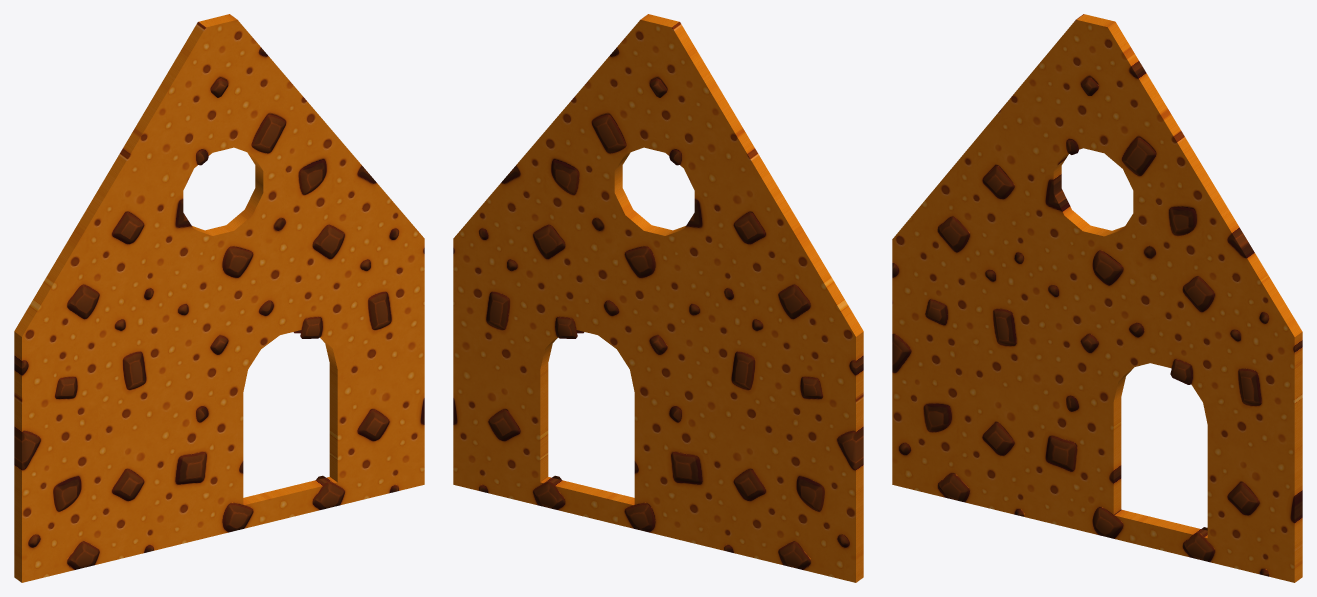
Rendered from Wall_002.fbx.
3 renders of one model, left to right at view 1: azimuth 30°, elevation 25°; view 2: azimuth 150°, elevation 25°; view 3: azimuth 330°, elevation 25°, orthographic.
Visible parts, largest first — view 1: Wall_002; view 2: Wall_002; view 3: Wall_002.
Boxes of the visible parts, x1,y1,x2,y2 form: Wall_002: (14, 14, 424, 582); Wall_002: (453, 14, 863, 582); Wall_002: (892, 14, 1302, 582).
Size of the model in its own units: 6 by 7.27 by 0.3052.
